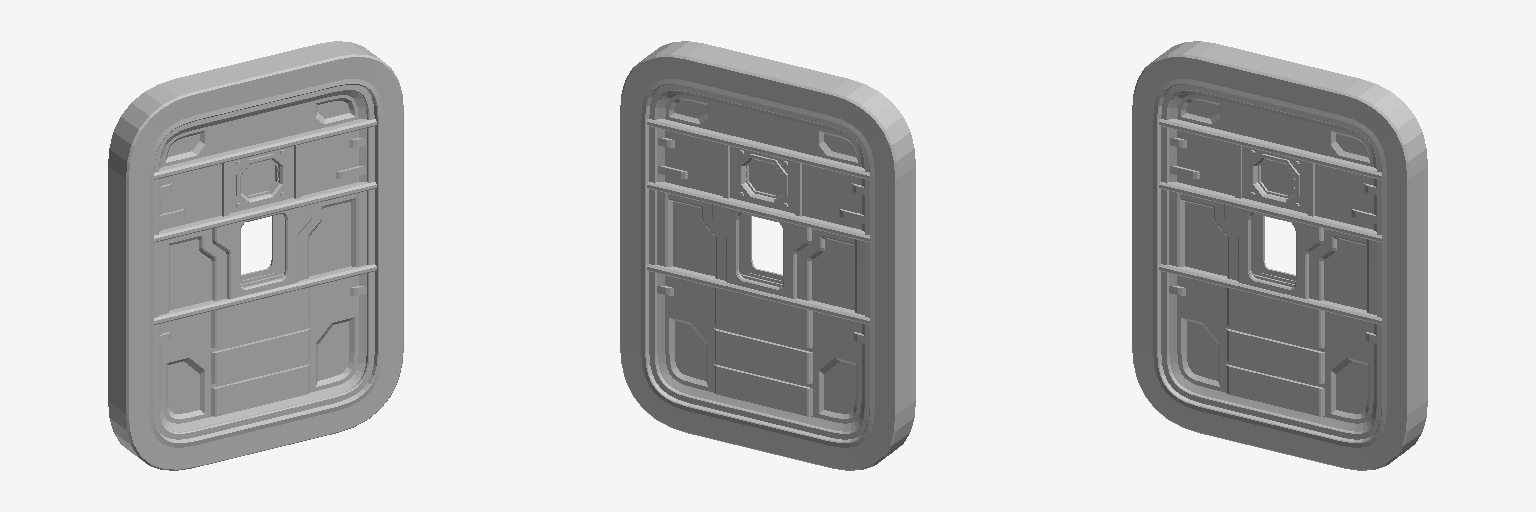
File: door_g.obj
3 renders of one model, left to right at view 1: azimuth 30°, elevation 25°; view 2: azimuth 150°, elevation 25°; view 3: azimuth 330°, elevation 25°, orthographic.
Parts seen in each view (by area): view 1: entry_1085_pkOBJ, entry_1086_pkOBJ, entry_1087_pkOBJ, entry_1088_pkOBJ, entry_1095_pkOBJ; view 2: entry_1085_pkOBJ, entry_1086_pkOBJ, entry_1087_pkOBJ, entry_1088_pkOBJ, entry_1095_pkOBJ; view 3: entry_1085_pkOBJ, entry_1086_pkOBJ, entry_1087_pkOBJ, entry_1088_pkOBJ, entry_1095_pkOBJ.
Boxes of the visible parts, <box> form: entry_1085_pkOBJ: <box>108,41,403,470</box>; entry_1086_pkOBJ: <box>154,85,376,439</box>; entry_1087_pkOBJ: <box>149,79,382,447</box>; entry_1088_pkOBJ: <box>241,160,274,194</box>; entry_1095_pkOBJ: <box>249,340,275,374</box>; entry_1085_pkOBJ: <box>620,41,915,470</box>; entry_1086_pkOBJ: <box>647,85,869,439</box>; entry_1087_pkOBJ: <box>641,79,874,447</box>; entry_1088_pkOBJ: <box>749,160,782,194</box>; entry_1095_pkOBJ: <box>748,340,774,374</box>; entry_1085_pkOBJ: <box>1132,41,1427,470</box>; entry_1086_pkOBJ: <box>1159,85,1381,439</box>; entry_1087_pkOBJ: <box>1153,79,1386,447</box>; entry_1088_pkOBJ: <box>1261,160,1294,194</box>; entry_1095_pkOBJ: <box>1260,340,1286,374</box>.
Bounding box in the file's own units: 24.93 × 32.25 × 3.21.